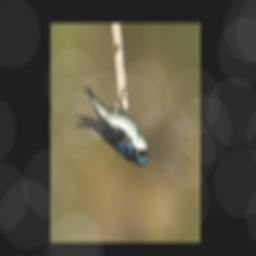Swallow: (73, 80, 151, 167)
